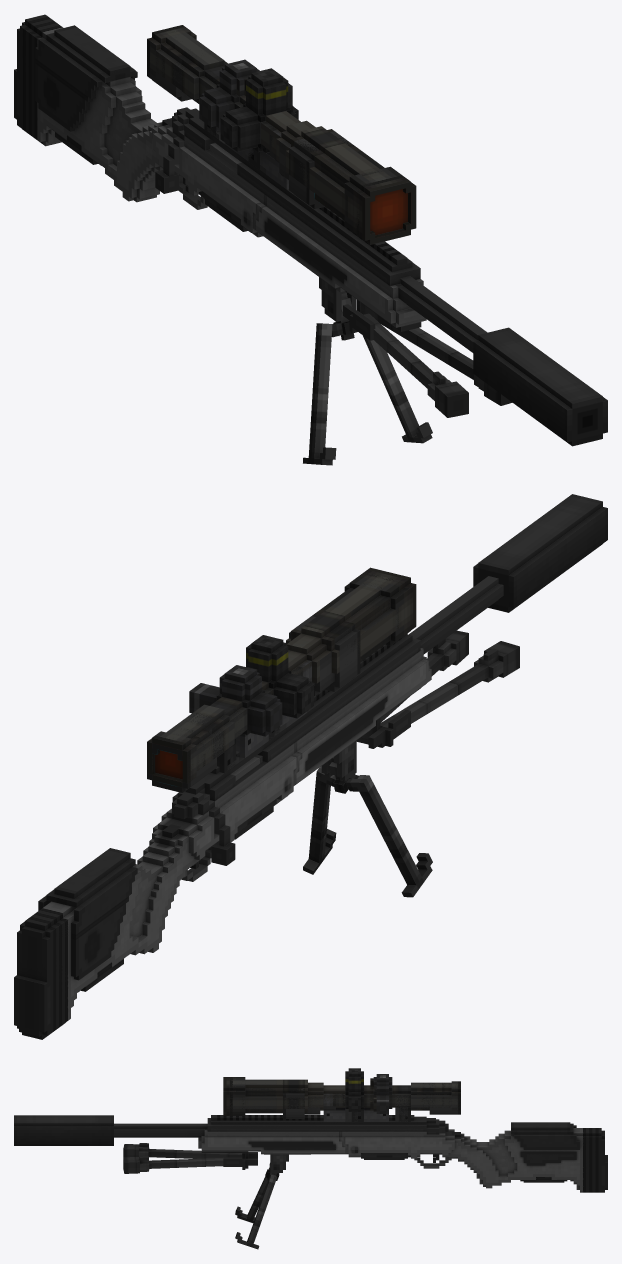
File: RD_SCOUT.glb
The picture shows the model from 3 angles, top to bottom: view 1: azimuth 30°, elevation 25°; view 2: azimuth 150°, elevation 25°; view 3: azimuth 270°, elevation 25°; orthographic projection. The views are drawn at different scales.
Parts seen in each view (by area): view 1: STEYR_SCOUT, SCOPE_NIGHTFORCE, SCOPE_LEUPOLD, SILENCER_8X8, DIPOD2_LEG1, DIPOD1_LEG1, SCOPE_SCHMIDT_BENDER, DIPOD1_LEG2, DIPOD2_LEG2, STEYR_SCOUT_P2, DIPOD2, DIPOD1_BODY; view 2: STEYR_SCOUT, SCOPE_NIGHTFORCE, SCOPE_LEUPOLD, SILENCER_8X8, SCOPE_SCHMIDT_BENDER, DIPOD2_LEG1, DIPOD1_LEG1, DIPOD1_LEG2, DIPOD2_LEG2, DIPOD2, STEYR_SCOUT_P2, STEYR_SCOUT_P1 (+1 smaller); view 3: STEYR_SCOUT, SCOPE_LEUPOLD, SCOPE_NIGHTFORCE, SILENCER_8X8, SCOPE_SCHMIDT_BENDER, DIPOD2_LEG2, DIPOD2_LEG1, DIPOD1_LEG2, DIPOD2, DIPOD1_LEG1, DIPOD1_BODY.
Boxes of the visible parts, x1=… form: STEYR_SCOUT: x1=14, y1=14, x2=487, y2=352; SCOPE_NIGHTFORCE: x1=147, y1=25, x2=416, y2=244; SCOPE_LEUPOLD: x1=147, y1=25, x2=404, y2=240; SILENCER_8X8: x1=473, y1=327, x2=607, y2=446; DIPOD2_LEG1: x1=363, y1=313, x2=468, y2=417; DIPOD1_LEG1: x1=303, y1=323, x2=336, y2=465; SCOPE_SCHMIDT_BENDER: x1=147, y1=45, x2=353, y2=209; DIPOD1_LEG2: x1=363, y1=335, x2=432, y2=443; DIPOD2_LEG2: x1=377, y1=315, x2=512, y2=405; STEYR_SCOUT_P2: x1=155, y1=130, x2=184, y2=193; DIPOD2: x1=343, y1=299, x2=421, y2=340; DIPOD1_BODY: x1=319, y1=277, x2=356, y2=321; STEYR_SCOUT: x1=14, y1=576, x2=503, y2=1039; SCOPE_NIGHTFORCE: x1=147, y1=567, x2=416, y2=787; SCOPE_LEUPOLD: x1=152, y1=572, x2=409, y2=781; SILENCER_8X8: x1=473, y1=494, x2=607, y2=612; SCOPE_SCHMIDT_BENDER: x1=147, y1=614, x2=360, y2=792; DIPOD2_LEG1: x1=380, y1=641, x2=519, y2=728; DIPOD1_LEG1: x1=346, y1=775, x2=432, y2=897; DIPOD1_LEG2: x1=303, y1=766, x2=336, y2=874; DIPOD2_LEG2: x1=380, y1=630, x2=468, y2=722; DIPOD2: x1=356, y1=688, x2=420, y2=748; STEYR_SCOUT_P2: x1=209, y1=800, x2=235, y2=865; STEYR_SCOUT_P1: x1=172, y1=755, x2=262, y2=818; STEYR_SCOUT: x1=114, y1=1115, x2=607, y2=1192; SCOPE_LEUPOLD: x1=229, y1=1068, x2=460, y2=1121; SCOPE_NIGHTFORCE: x1=223, y1=1074, x2=460, y2=1121; SILENCER_8X8: x1=14, y1=1115, x2=113, y2=1145; SCOPE_SCHMIDT_BENDER: x1=283, y1=1078, x2=460, y2=1121; DIPOD2_LEG2: x1=123, y1=1156, x2=223, y2=1173; DIPOD2_LEG1: x1=123, y1=1143, x2=242, y2=1158; DIPOD1_LEG2: x1=235, y1=1174, x2=276, y2=1249; DIPOD2: x1=201, y1=1151, x2=257, y2=1169; DIPOD1_LEG1: x1=235, y1=1167, x2=270, y2=1222; DIPOD1_BODY: x1=270, y1=1154, x2=288, y2=1172.
Bounding box in the file's own units: 0.2136 × 0.5748 × 1.87.
Materials: 7 (7 with a texture image).
